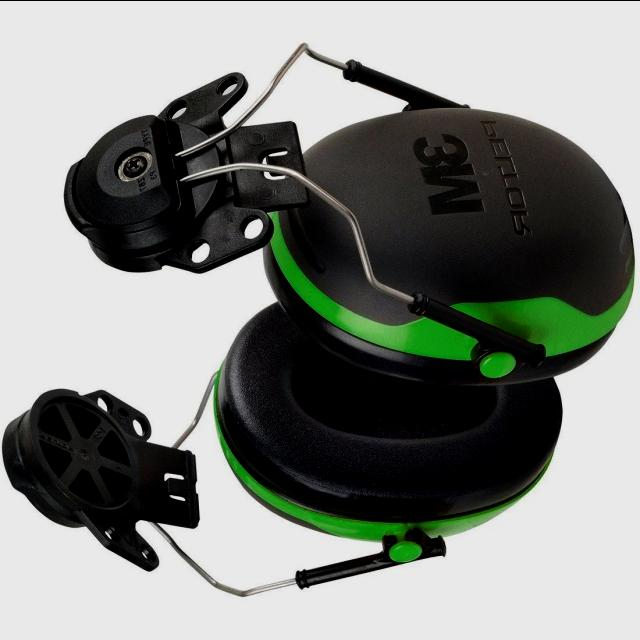Ear Muffs: (206, 294, 584, 590), (266, 104, 640, 392)
